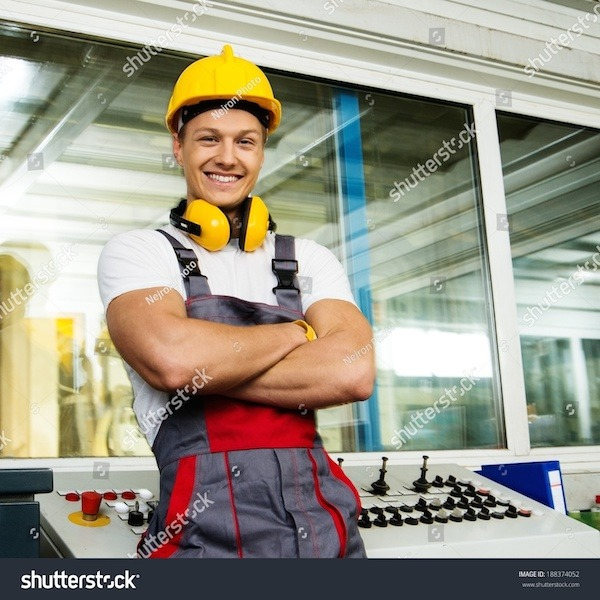helmet: (164, 50, 287, 114)
